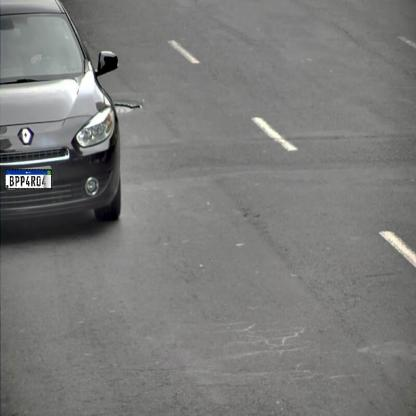PlacaM: (5, 169, 52, 189)
